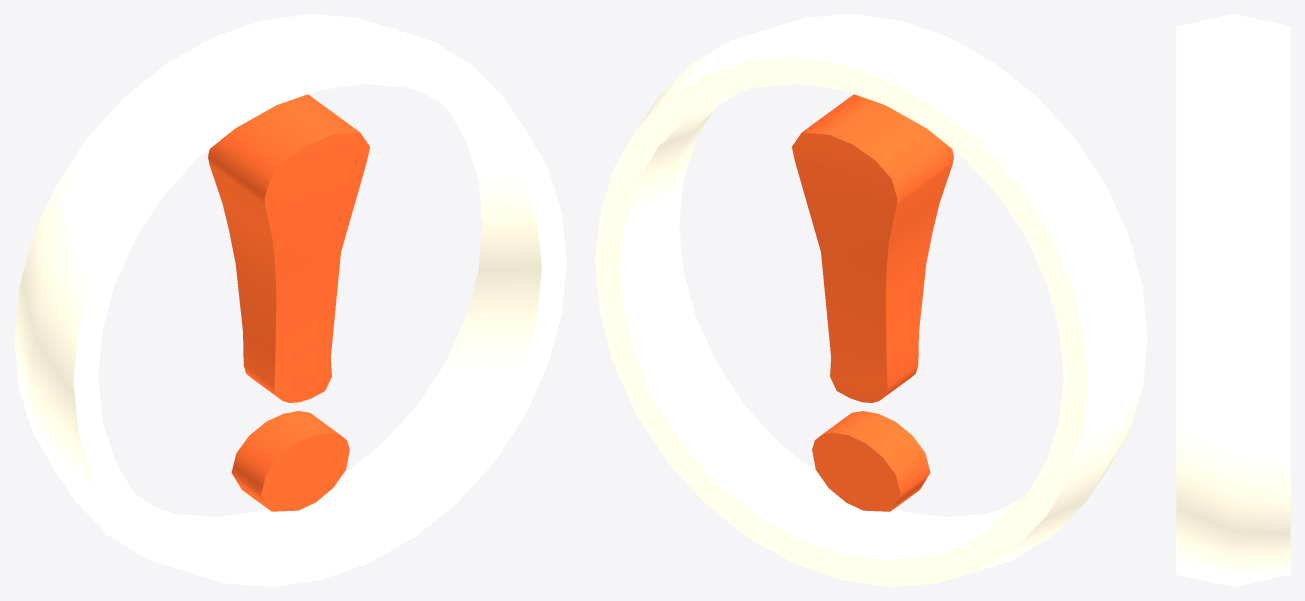
The model's file is error.feet.gltf.
3 renders of one model, left to right at view 1: azimuth 30°, elevation 25°; view 2: azimuth 150°, elevation 25°; view 3: azimuth 270°, elevation 25°, orthographic. The views are drawn at different scales.
Visible parts, largest first — view 1: Cylinder.002; view 2: Cylinder.002; view 3: Cylinder.002.
Boxes of the visible parts, bbox=[...] form: Cylinder.002: bbox=[14, 14, 566, 586]; Cylinder.002: bbox=[595, 14, 1147, 586]; Cylinder.002: bbox=[1176, 14, 1290, 586].
Size of what is drawn, in the model's own units: 0.2724 by 0.2724 by 0.0543.
